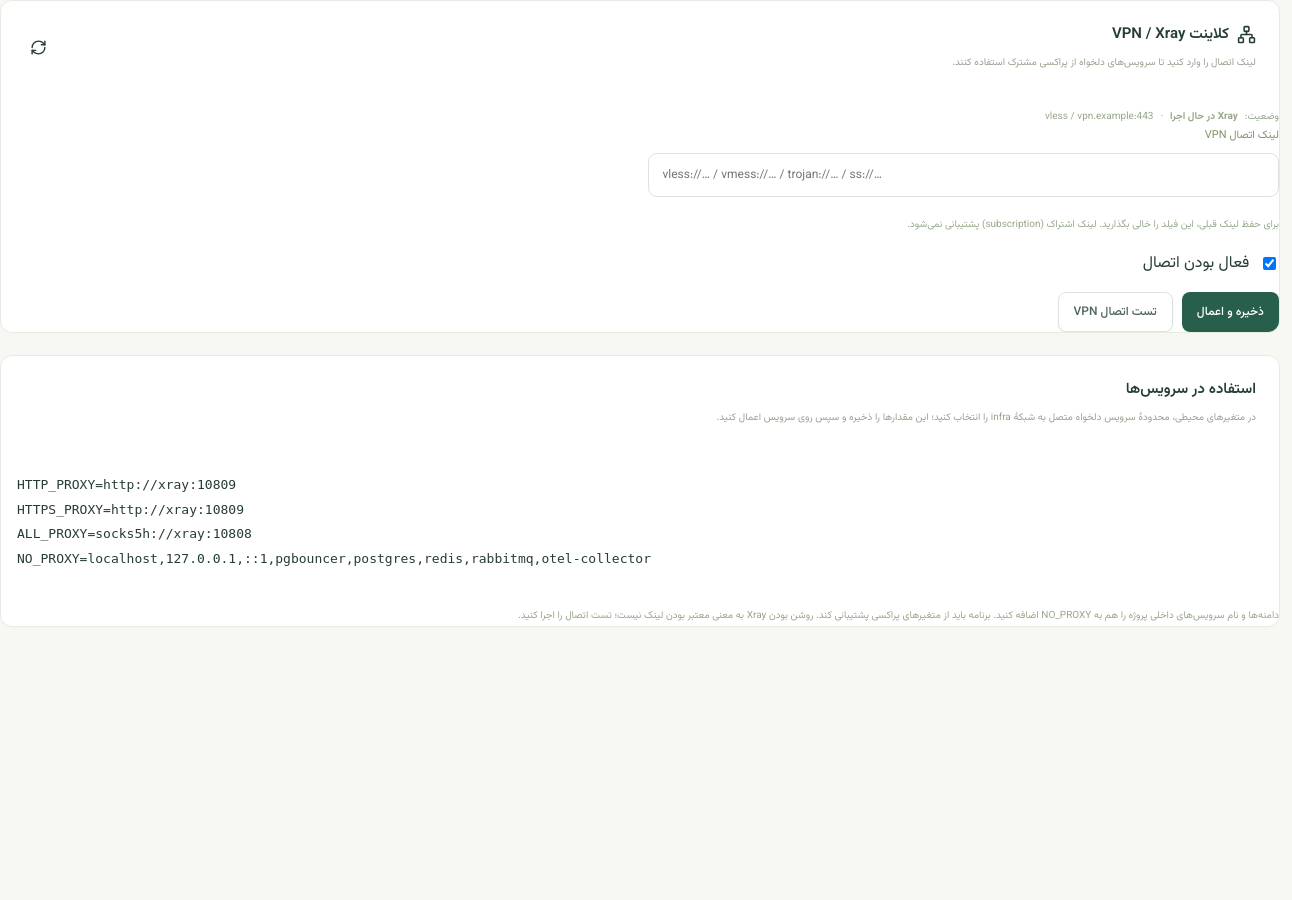
Test case: retains an edited link after a failed save and shows the failure
Type "vless://private-link" into the password field labelled "لینک اتصال VPN".
click(963, 175); type("vless://private-link")  # box [648, 153, 1279, 197]
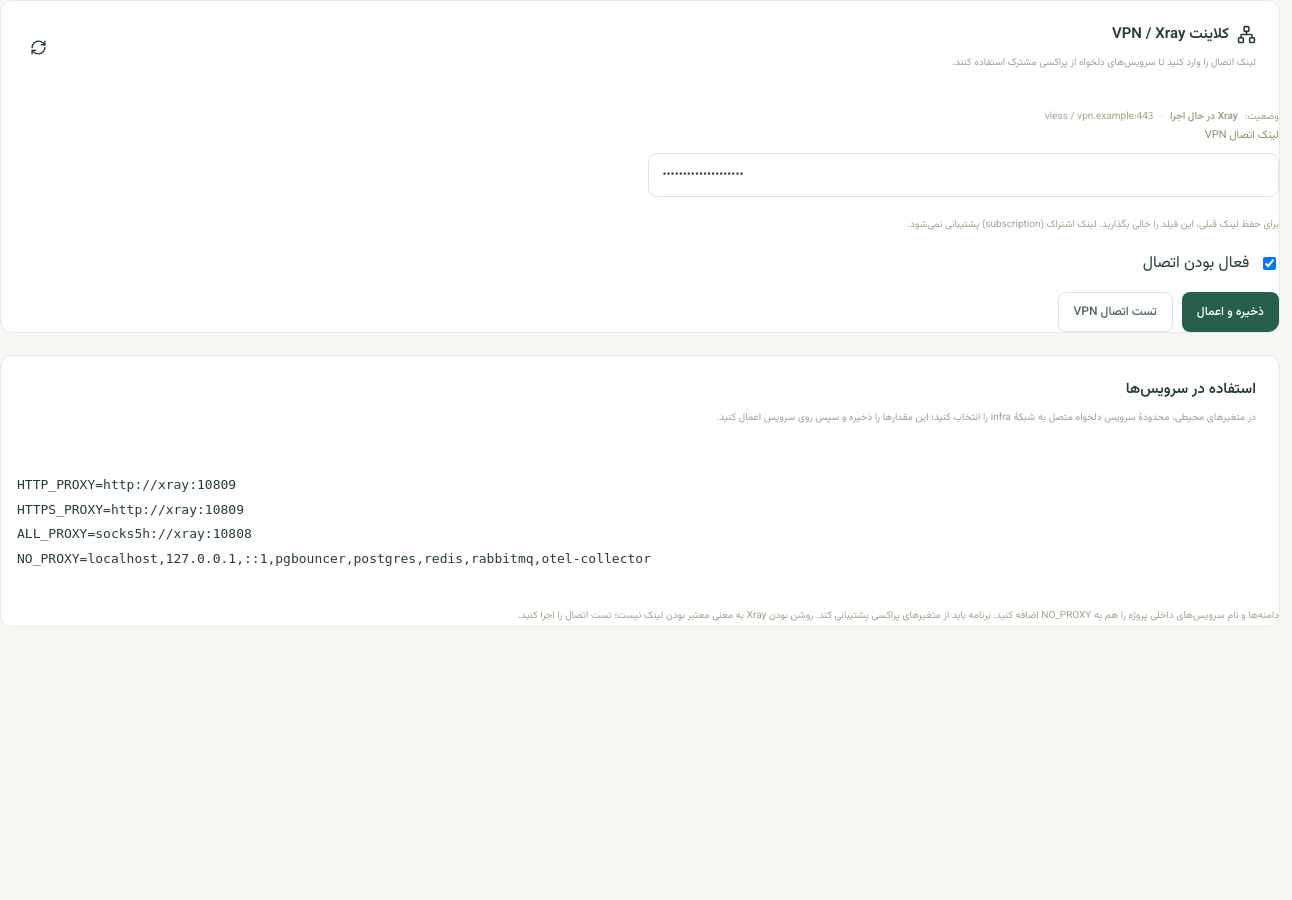
Click the button "ذخیره و اعمال".
click(1230, 312)  # box [1182, 292, 1279, 332]
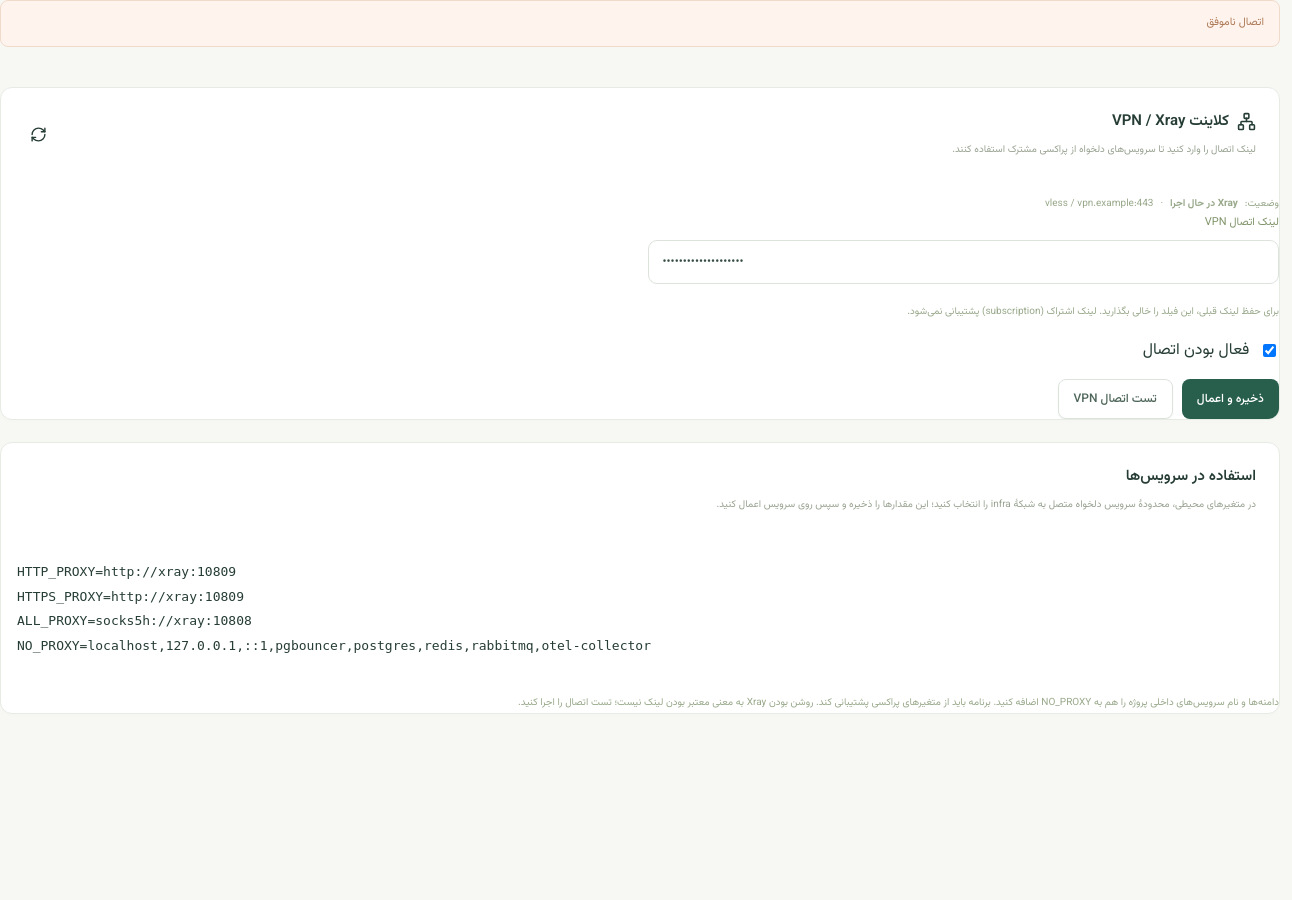
Check: the message reads "اتصال ناموفق", box [1206, 14, 1264, 31]
